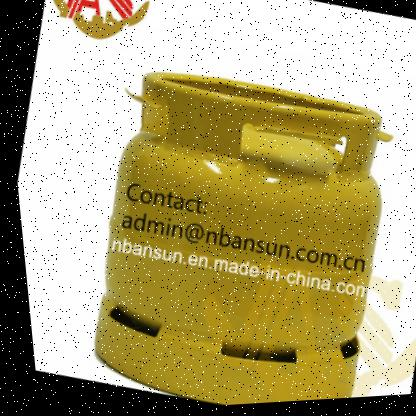gas-tank: (22, 21, 415, 415)
